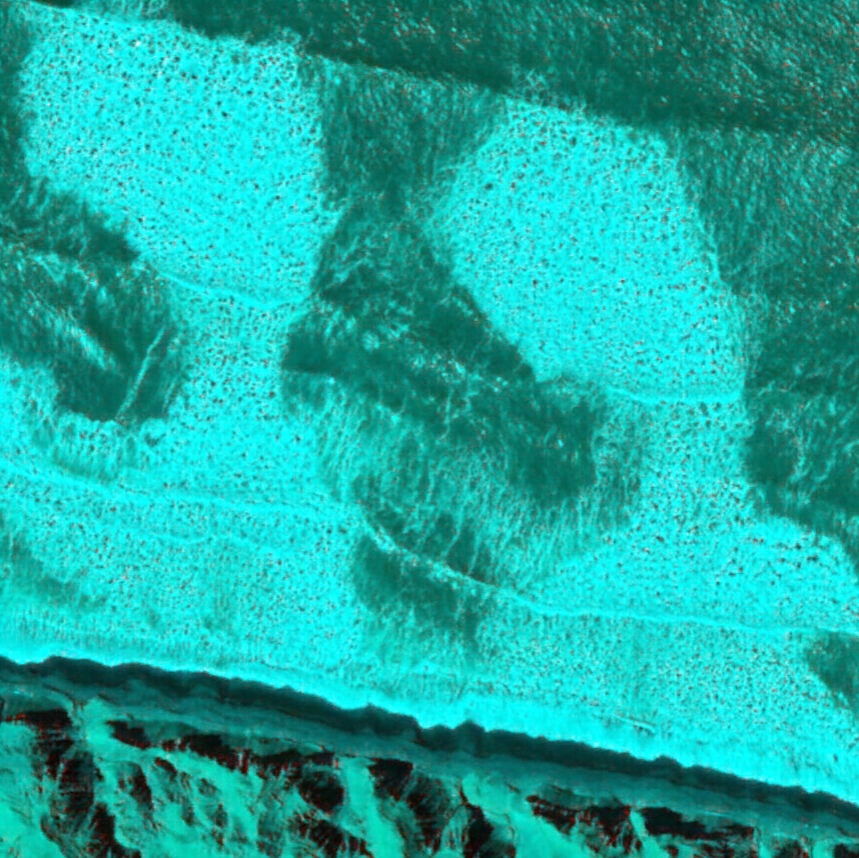rip_current: (230, 86, 625, 690)
